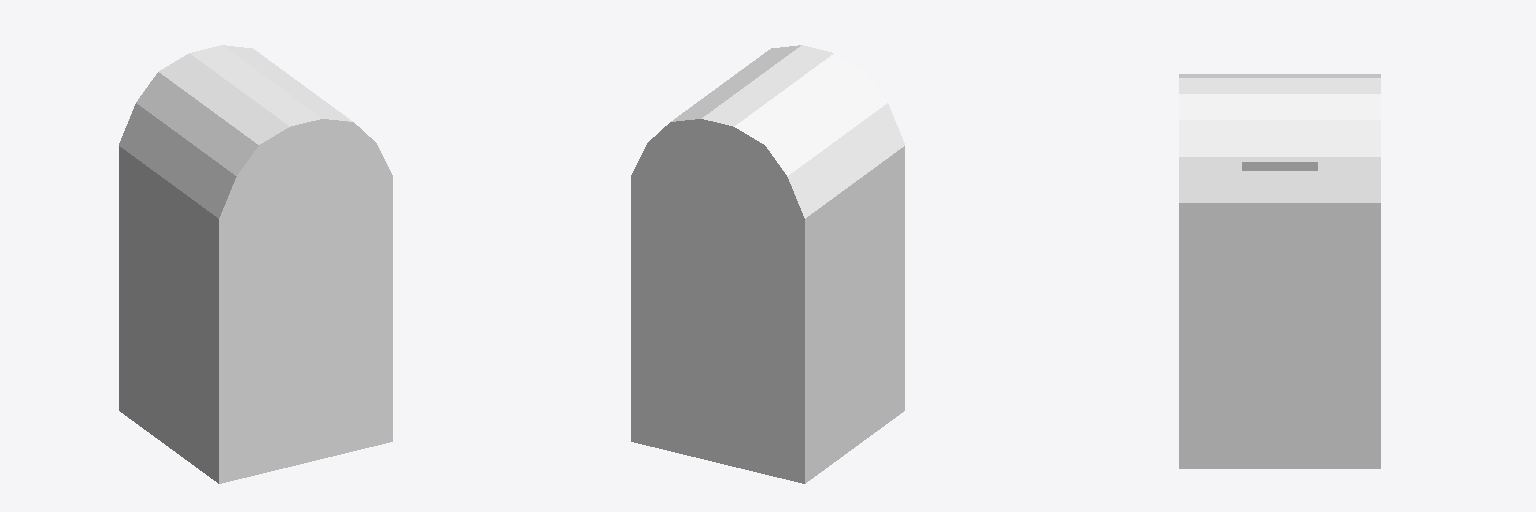
The model's file is trashcan.obj.
The picture shows the model from 3 angles: view 1: azimuth 30°, elevation 25°; view 2: azimuth 150°, elevation 25°; view 3: azimuth 270°, elevation 25°; orthographic projection.
Visible parts, largest first — view 1: pCube1; view 2: pCube1; view 3: pCube1.
Part boxes in pixels (bbox=[...]): pCube1: bbox=[119, 45, 392, 483]; pCube1: bbox=[631, 45, 904, 483]; pCube1: bbox=[1179, 74, 1380, 468].
Size of the model in its own units: 1 by 1.86 by 1.